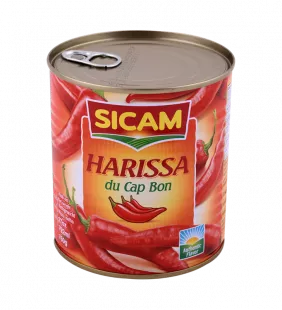Promotion: (37, 20, 244, 284)
